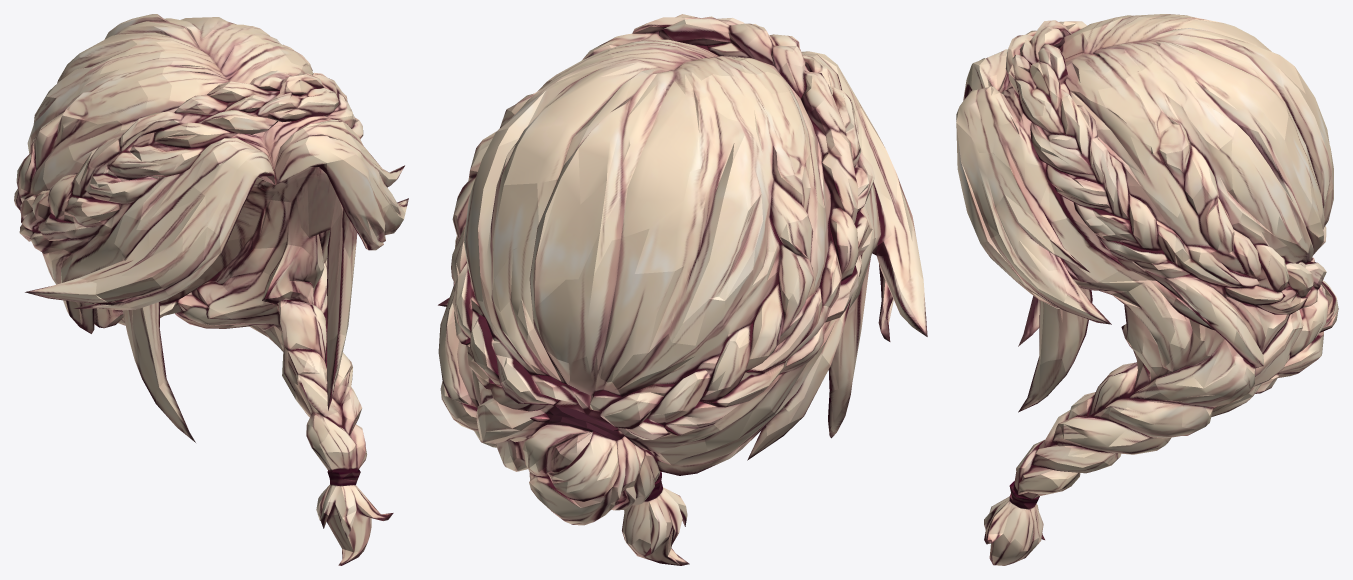
File: fennal_f-tresse.glb
3 views of the same model, side by side, from view 1: azimuth 30°, elevation 25°; view 2: azimuth 150°, elevation 25°; view 3: azimuth 270°, elevation 25° (orthographic). The views are drawn at different scales.
Visible parts, largest first — view 1: geometry_0; view 2: geometry_0; view 3: geometry_0.
Boxes of the visible parts, <box> form: geometry_0: <box>14,14,408,565</box>; geometry_0: <box>438,14,927,565</box>; geometry_0: <box>956,14,1338,565</box>.
Bounding box in the file's own units: 1.57 × 1.9 × 1.33.
1 material, 1 textured.
